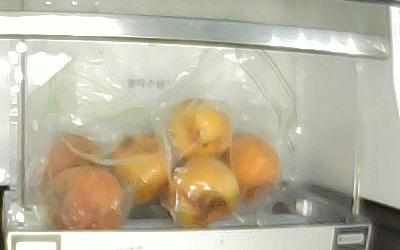peach_vinyl: (166, 154, 239, 227), (46, 164, 123, 230), (218, 135, 279, 201), (112, 133, 168, 204), (168, 99, 231, 160), (43, 134, 106, 186)
